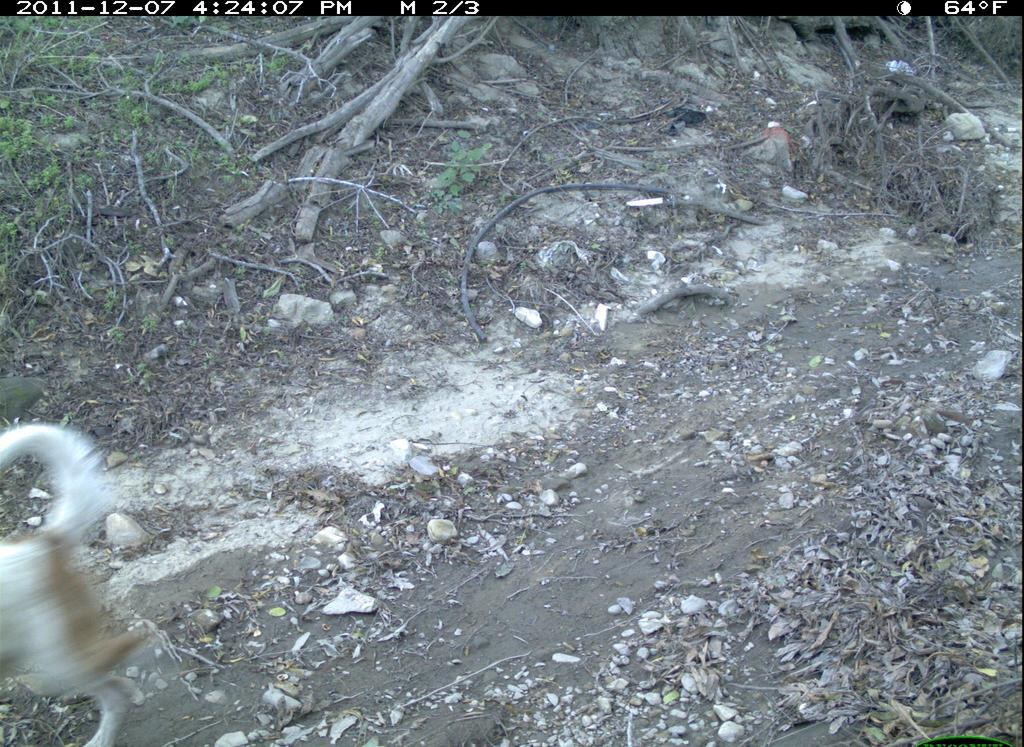dog: (1, 420, 172, 747)
